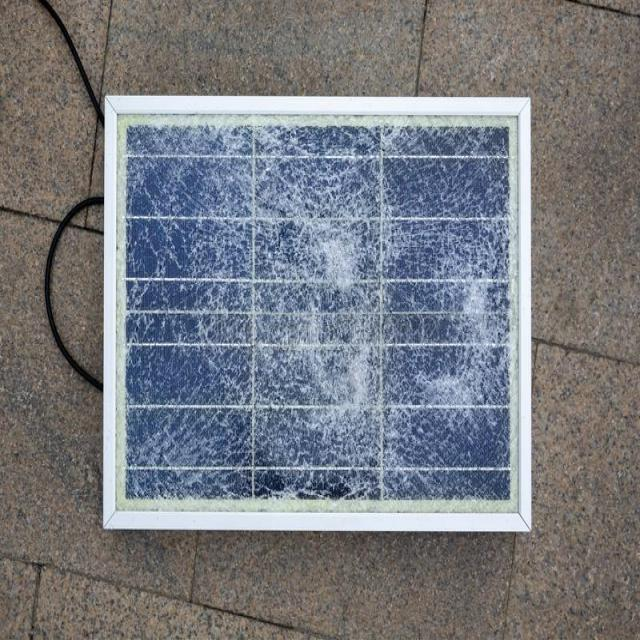faulty: (105, 94, 531, 529)
